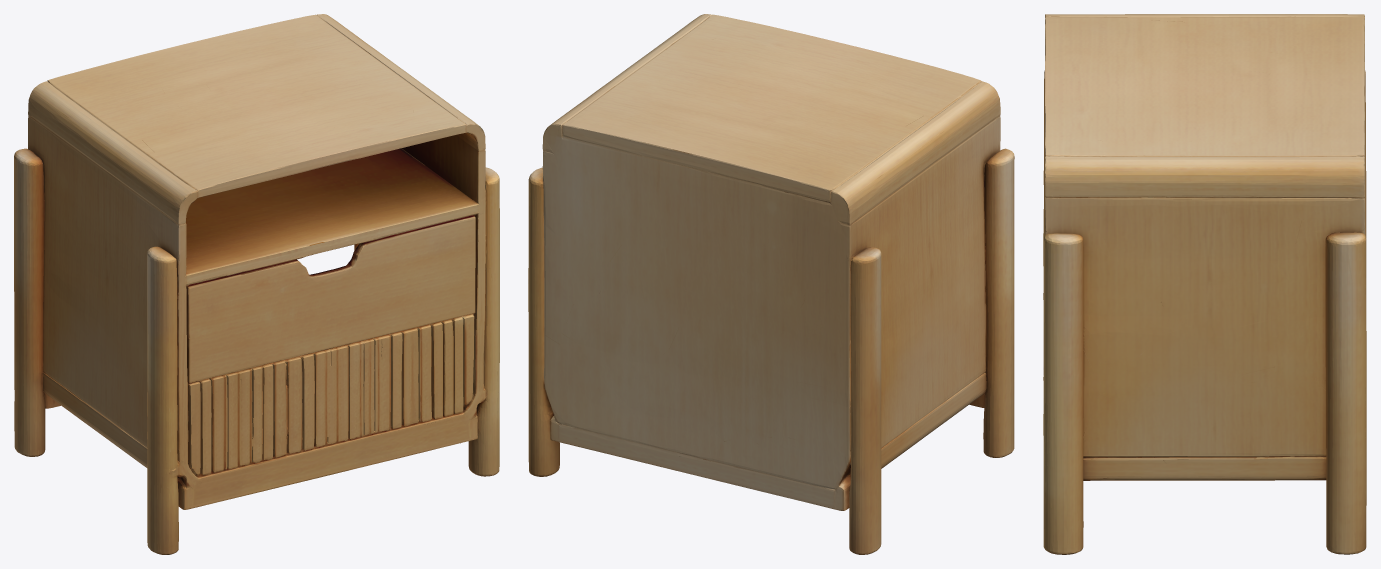
Rendered from BURO YUTE.glb.
3 views of the same model, side by side, from view 1: azimuth 30°, elevation 25°; view 2: azimuth 150°, elevation 25°; view 3: azimuth 270°, elevation 25° (orthographic). The views are drawn at different scales.
Parts seen in each view (by area): view 1: world; view 2: world; view 3: world.
Part boxes in pixels (x1=…): world: x1=14, y1=14, x2=499, y2=554; world: x1=528, y1=14, x2=1014, y2=554; world: x1=1043, y1=14, x2=1366, y2=554.
Size of the model in its own units: 0.55 by 0.55 by 0.42.
Materials: 1 (1 with a texture image).
